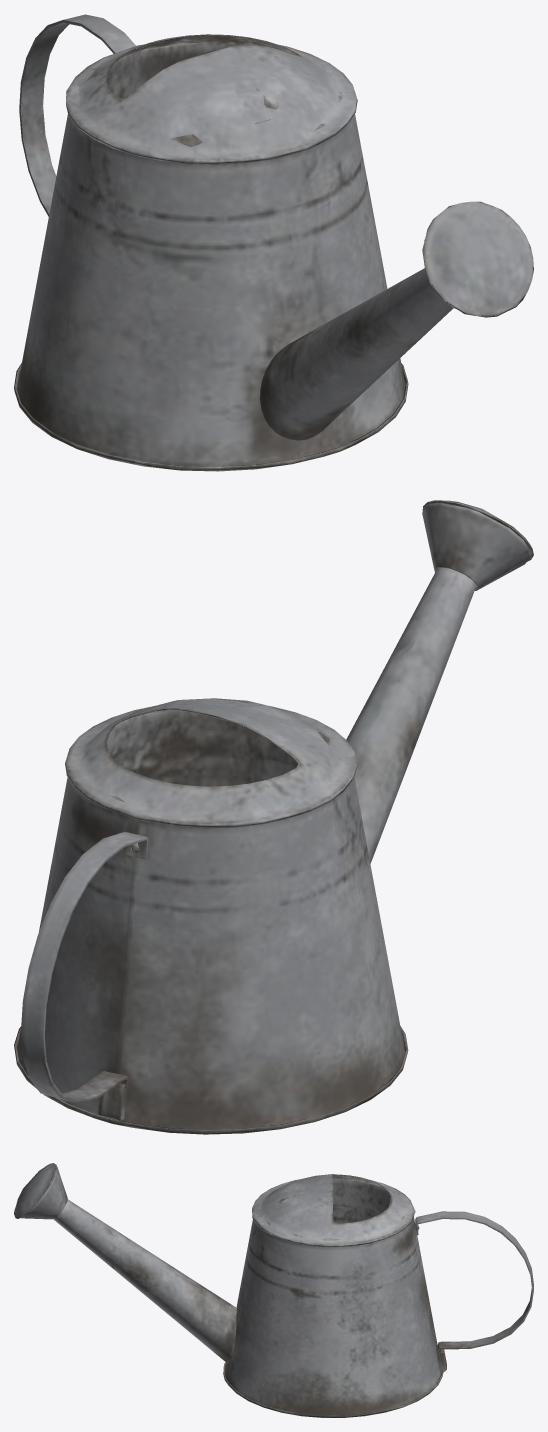
The model's file is watering_can_metal_01.glb.
3 renders of one model, top to bottom at view 1: azimuth 30°, elevation 25°; view 2: azimuth 150°, elevation 25°; view 3: azimuth 270°, elevation 25°, orthographic. The views are drawn at different scales.
Visible parts, largest first — view 1: watering_can_metal_01; view 2: watering_can_metal_01; view 3: watering_can_metal_01.
Boxes of the visible parts, left/top/right/bottom form: watering_can_metal_01: left=14, top=14, right=533, bottom=471; watering_can_metal_01: left=14, top=500, right=533, bottom=1134; watering_can_metal_01: left=14, top=1163, right=533, bottom=1417.
Size of the model in its own units: 0.191 by 0.1965 by 0.4521.
1 material, 1 textured.
